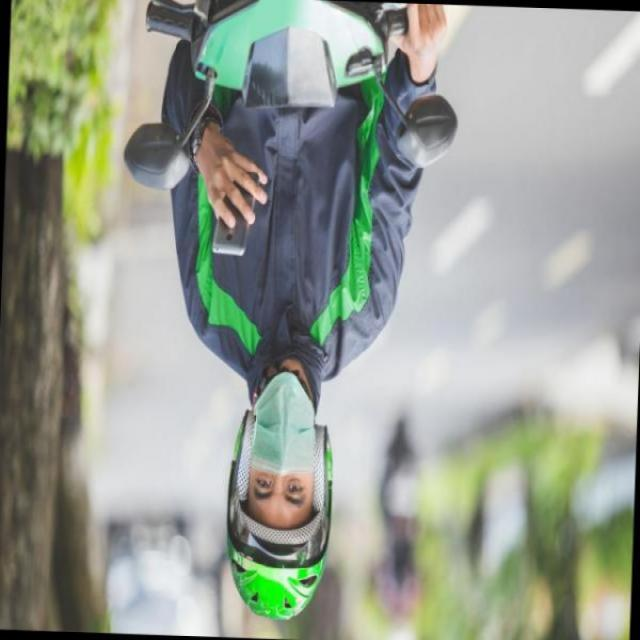Helmet: (193, 404, 379, 631)
